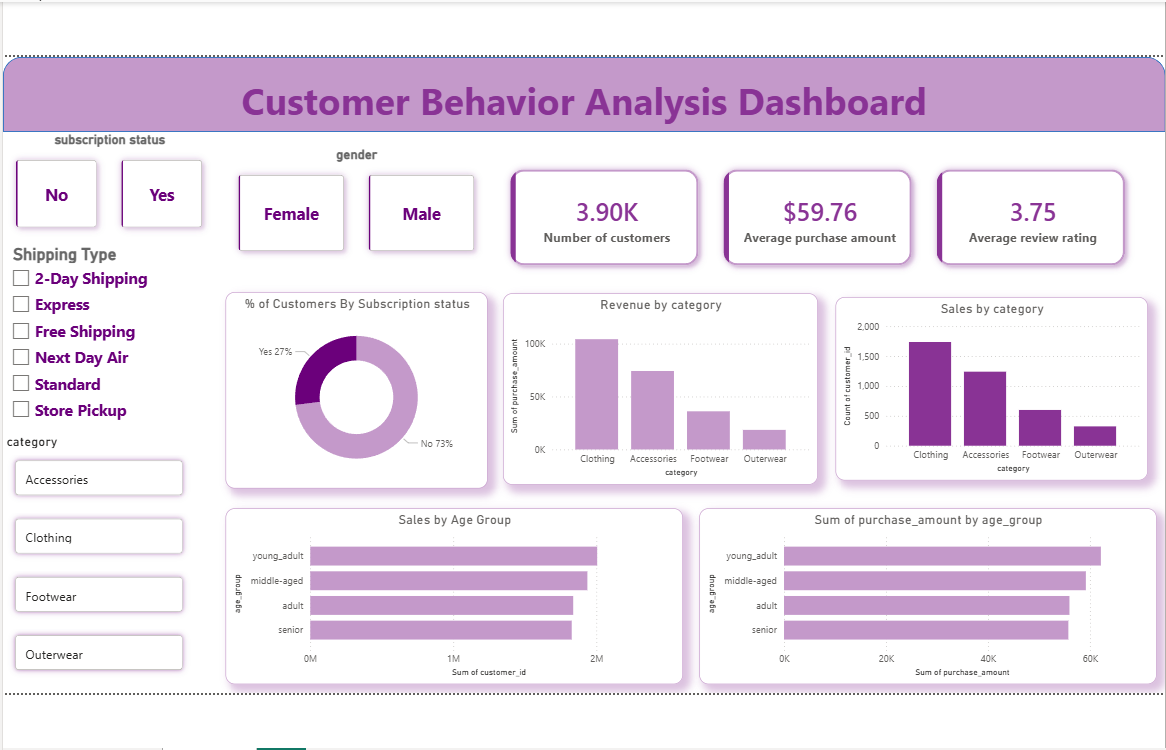

The page's visual inventory and layout, read from the dashboard file:
{"tool":"powerbi","page":{"name":"Page 1","canvas":[1500,820],"ordinal":0},"visuals":[{"type":"cardVisual","fields":{"Data":["project_db customer_data.Number of customers","project_db customer_data.Average purchase amount","project_db customer_data.Average review rating"]},"box":[625.9,116.2,851.8,182.3],"z":1},{"type":"shape","box":[0,0,1500.3,96.8],"z":2},{"type":"textbox","box":[0,0,1500.3,96.5],"z":3},{"type":"donutChart","title":"% of Customers By Subscription status","fields":{"Y":["project_db customer_data.Number of customers"],"Category":["project_db customer_data.subscription_status"]},"box":[287.2,303.3,338.8,253.3],"z":5},{"type":"clusteredColumnChart","title":"Revenue by category","fields":{"Y":["Sum(project_db customer_data.purchase_amount)"],"Category":["project_db customer_data.category"]},"box":[645.3,304.9,406.5,246.8],"z":6},{"type":"clusteredColumnChart","title":"Sales by category","fields":{"Y":["CountNonNull(project_db customer_data.customer_id)"],"Category":["project_db customer_data.category"]},"box":[1074.4,309.7,403.3,237.1],"z":7},{"type":"advancedSlicerVisual","title":"subscription status","fields":{"Values":["project_db customer_data.subscription_status"]},"box":[0,96.8,275.9,140.4],"z":8},{"type":"advancedSlicerVisual","fields":{"Values":["project_db customer_data.gender"]},"box":[287.2,116.2,338.8,151.6],"z":9},{"type":"slicer","title":"shipping type","fields":{"Values":["project_db customer_data.shipping_type"]},"box":[0,237.1,275.9,248.4],"z":10},{"type":"clusteredBarChart","fields":{"Y":["Sum(project_db customer_data.purchase_amount)"],"Category":["project_db customer_data.age_group"]},"box":[898.6,582.4,590.5,227.5],"z":11},{"type":"clusteredBarChart","title":"Sales by Age Group","fields":{"Y":["Sum(project_db customer_data.customer_id)"],"Category":["project_db customer_data.age_group"]},"box":[287.2,582.4,590.5,227.5],"z":12},{"type":"advancedSlicerVisual","fields":{"Values":["project_db customer_data.category"]},"box":[0,485.6,248.4,324.3],"z":13}]}

Visuals, with their boxes in screenshot pixels (x1, y1, x2, y2):
cardVisual - project_db customer_data.Number of customers x project_db customer_data.Average purchase amount: 507, 144, 1165, 289
shape: 9, 52, 1165, 129
textbox: 9, 52, 1165, 128
"% of Customers By Subscription status" donutChart: 237, 293, 507, 494
"Revenue by category" clusteredColumnChart: 522, 294, 845, 490
"Sales by category" clusteredColumnChart: 863, 298, 1165, 486
"subscription status" advancedSlicerVisual: 9, 129, 228, 240
advancedSlicerVisual - project_db customer_data.gender: 237, 144, 507, 264
"shipping type" slicer: 9, 240, 228, 437
clusteredBarChart - Sum(project_db customer_data.purchase_amount) x project_db customer_data.age_group: 723, 514, 1165, 695
"Sales by Age Group" clusteredBarChart: 237, 514, 707, 695
advancedSlicerVisual - project_db customer_data.category: 9, 438, 207, 695
